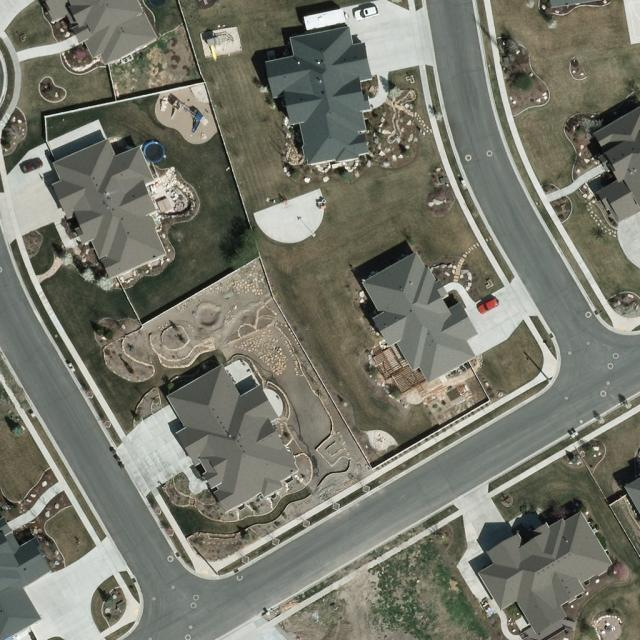vehicle: (352, 6, 380, 22), (477, 298, 501, 316), (20, 159, 44, 175)
